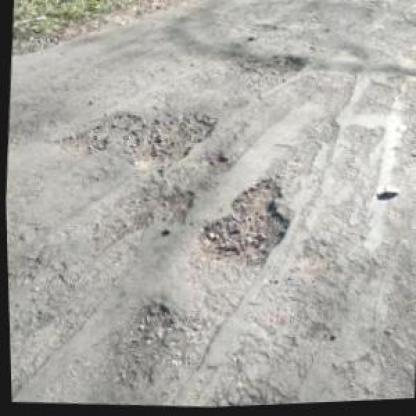pothole: (190, 173, 297, 276), (119, 101, 222, 176), (111, 299, 176, 387), (50, 107, 141, 162), (115, 184, 197, 238), (251, 54, 309, 94), (188, 151, 232, 176)
